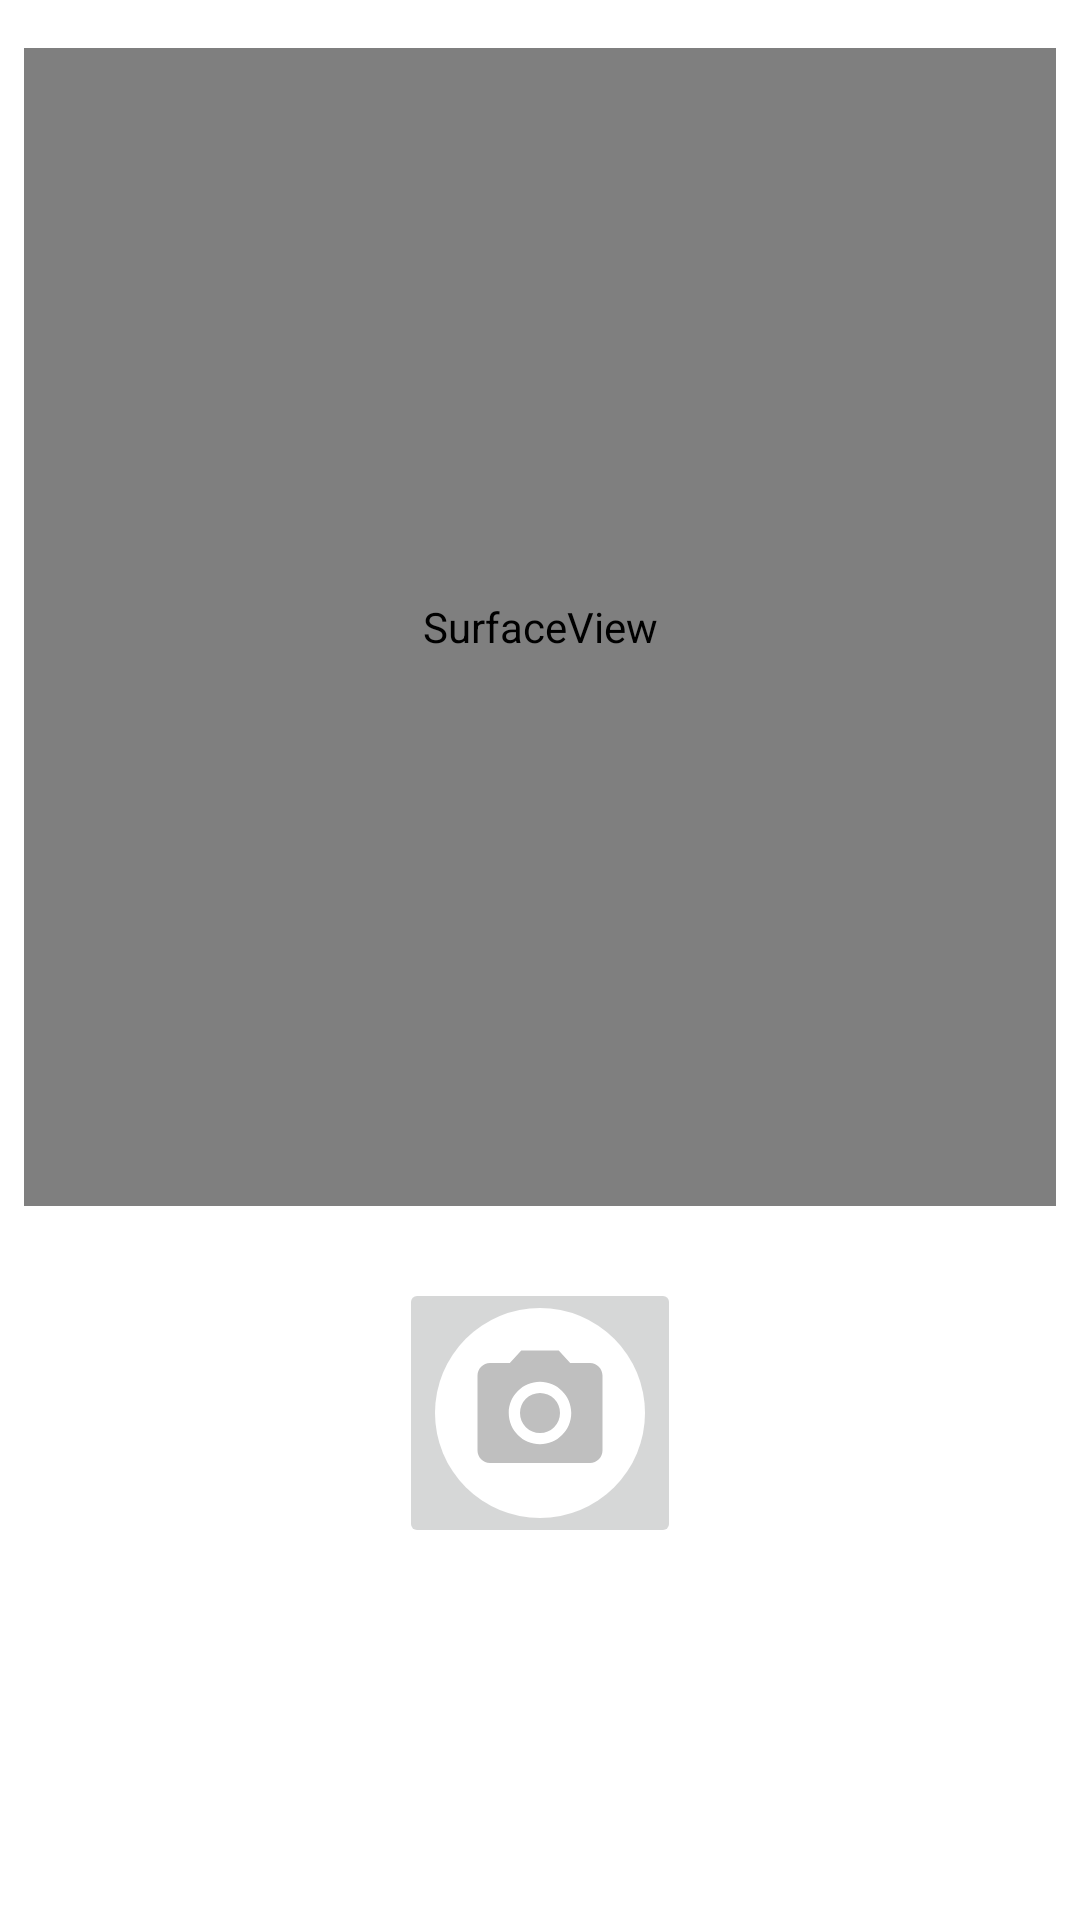

Screen size 1080*1920. Icon name, then its center in pixels as (x=x, y=y):
take photo: (x=540, y=1413)
